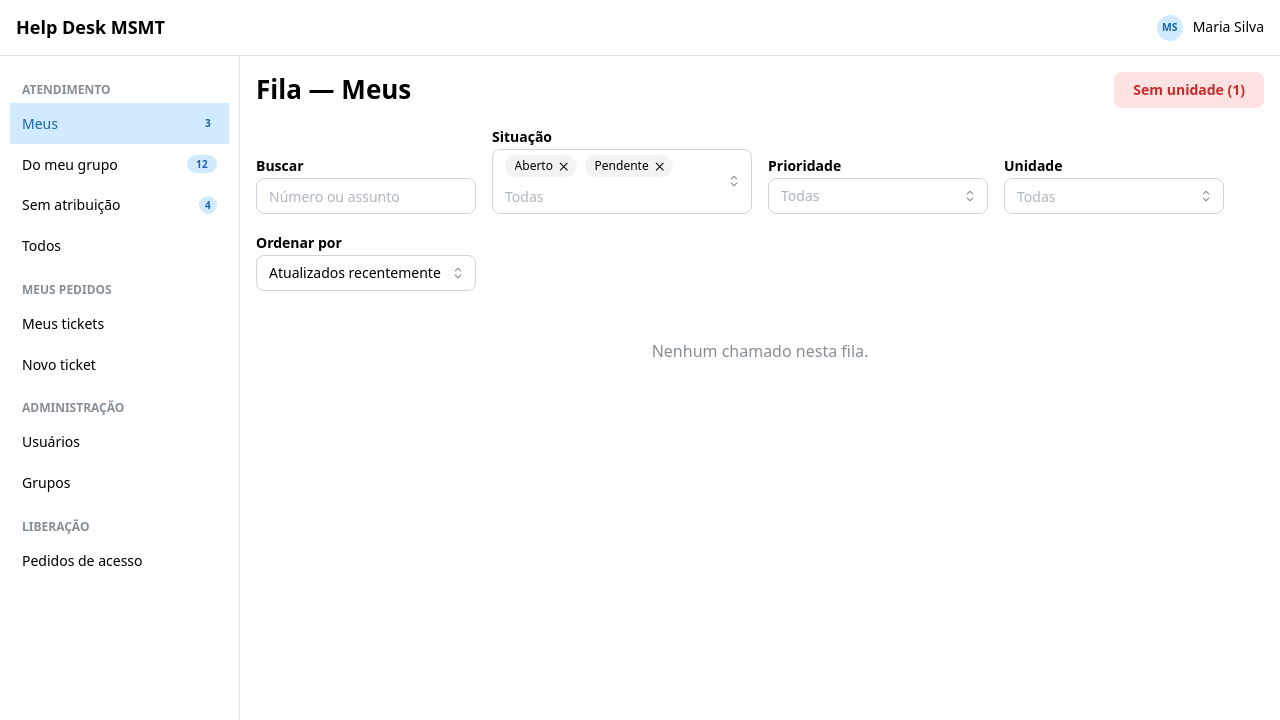
Test: AppLayout e rotas (T07) › admin: vê administração e navega pelo menu
This screenshot has width=1280, height=720.
Expected: the heading "Fila — Meus" is shown, [256,72,411,108]
Click the link "Usuários": (51, 442) [22,432,80,451]
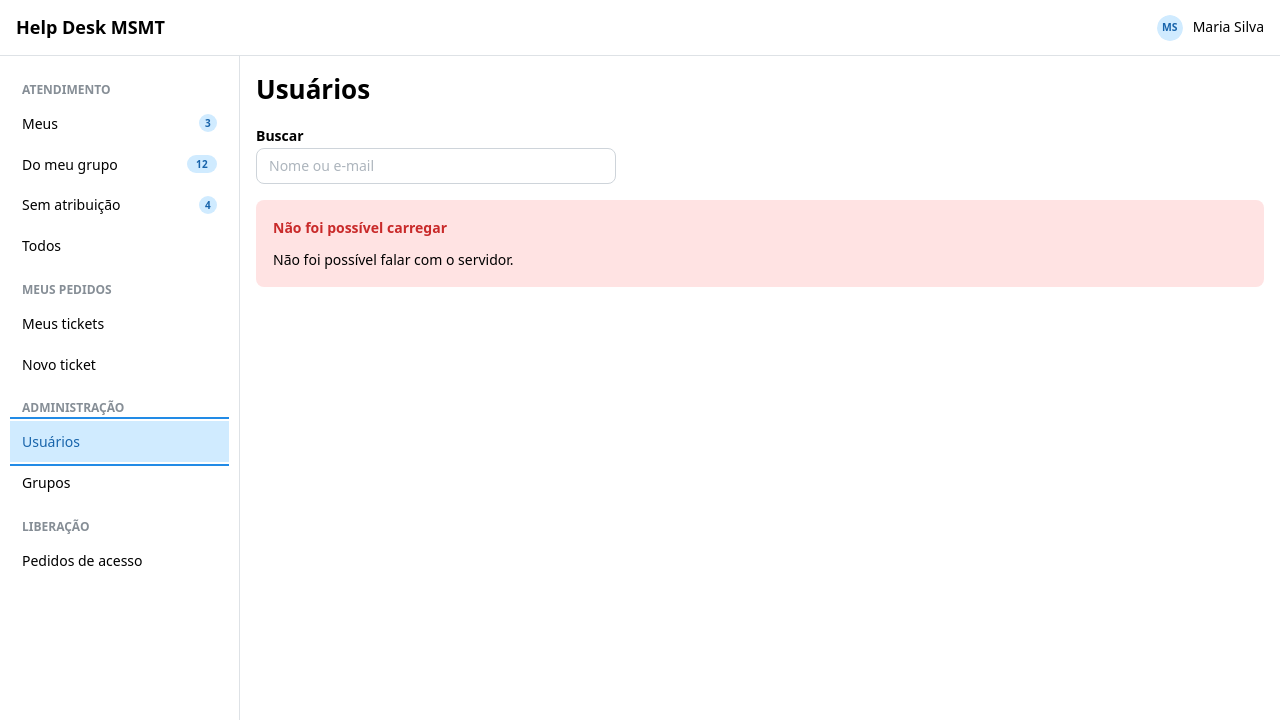
Expected: the heading "Usuários" is shown, [256,71,370,107]
Click the link "Do meu grupo 12": (120, 164) [22,155,217,174]
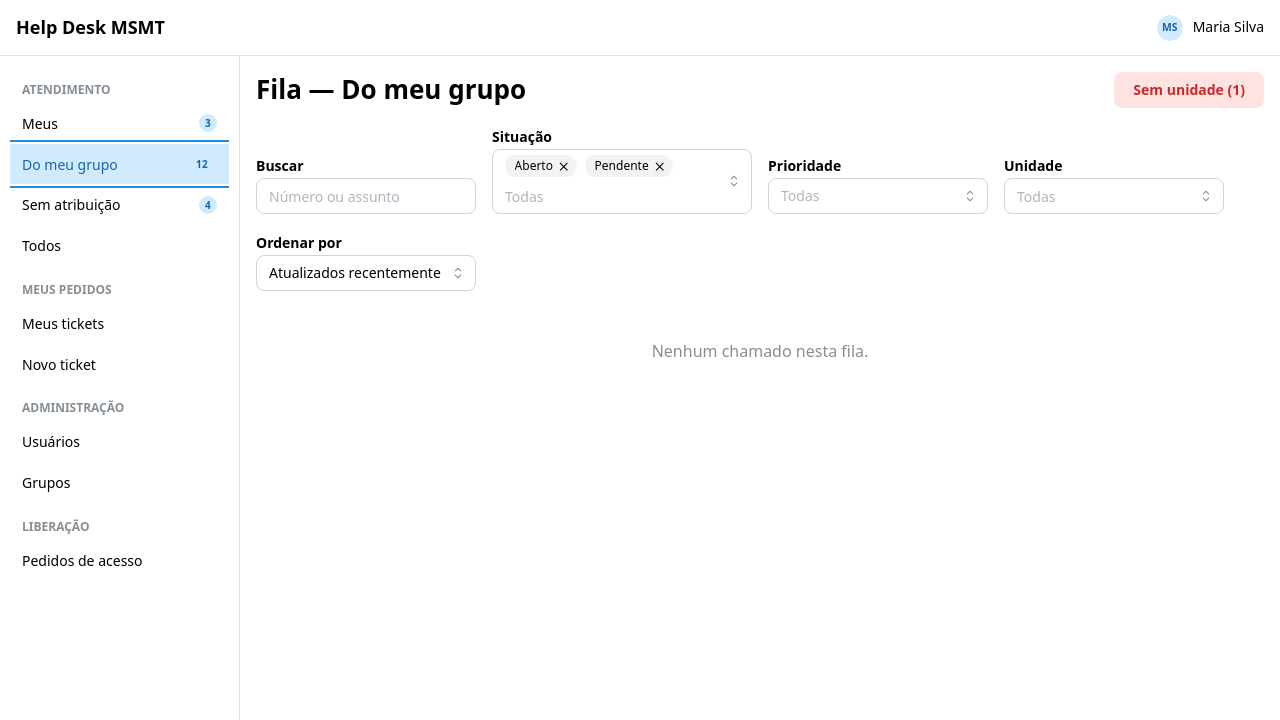
Expected: the heading "Fila — Do meu grupo" is shown, [256,72,526,108]
